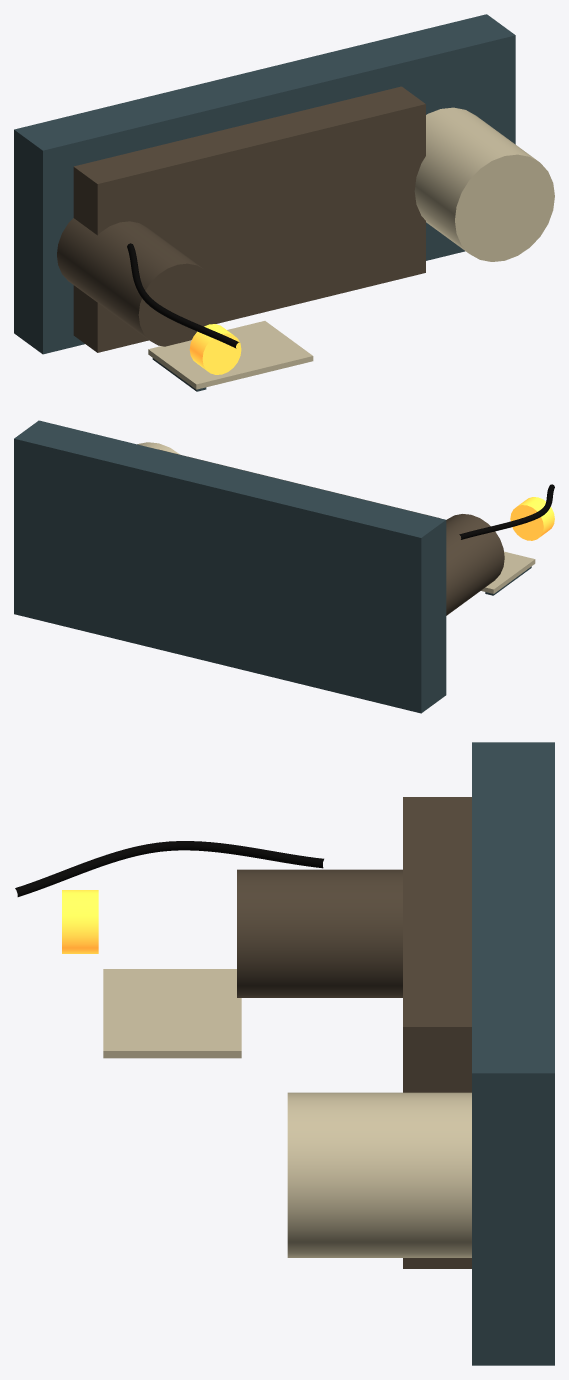
The model's file is dz_shelter_bed_livedin_premium.glb.
The picture shows the model from 3 angles, top to bottom: view 1: azimuth 30°, elevation 25°; view 2: azimuth 150°, elevation 25°; view 3: azimuth 270°, elevation 25°; orthographic projection. The views are drawn at different scales.
Visible parts, largest first — view 1: dirty folded blanket, sagging mattress, pillow sagging, rolled blanket end, bed warning note paper, bed warm bulb, bed lamp cable; view 2: sagging mattress, rolled blanket end, bed warm bulb, bed warning note paper, bed lamp cable; view 3: sagging mattress, pillow sagging, rolled blanket end, dirty folded blanket, bed warning note paper, bed lamp cable, bed warm bulb.
Boxes of the visible parts, <box> form: dirty folded blanket: <box>73,86,425,352</box>; sagging mattress: <box>14,14,515,354</box>; pillow sagging: <box>414,107,554,261</box>; rolled blanket end: <box>57,218,216,346</box>; bed warning note paper: <box>148,321,313,389</box>; bed warm bulb: <box>189,324,241,374</box>; bed lamp cable: <box>127,243,239,348</box>; sagging mattress: <box>14,420,446,713</box>; rolled blanket end: <box>446,514,504,615</box>; bed warm bulb: <box>510,497,554,540</box>; bed warning note paper: <box>481,551,535,593</box>; bed lamp cable: <box>459,484,554,539</box>; sagging mattress: <box>472,742,554,1365</box>; pillow sagging: <box>287,1092,471,1257</box>; rolled blanket end: <box>237,869,402,997</box>; dirty folded blanket: <box>403,797,471,1268</box>; bed warning note paper: <box>103,969,241,1058</box>; bed lamp cable: <box>15,841,323,896</box>; bed warm bulb: <box>62,890,98,953</box>.
Bounding box in the file's own units: 1.71 × 0.7 × 1.17.
